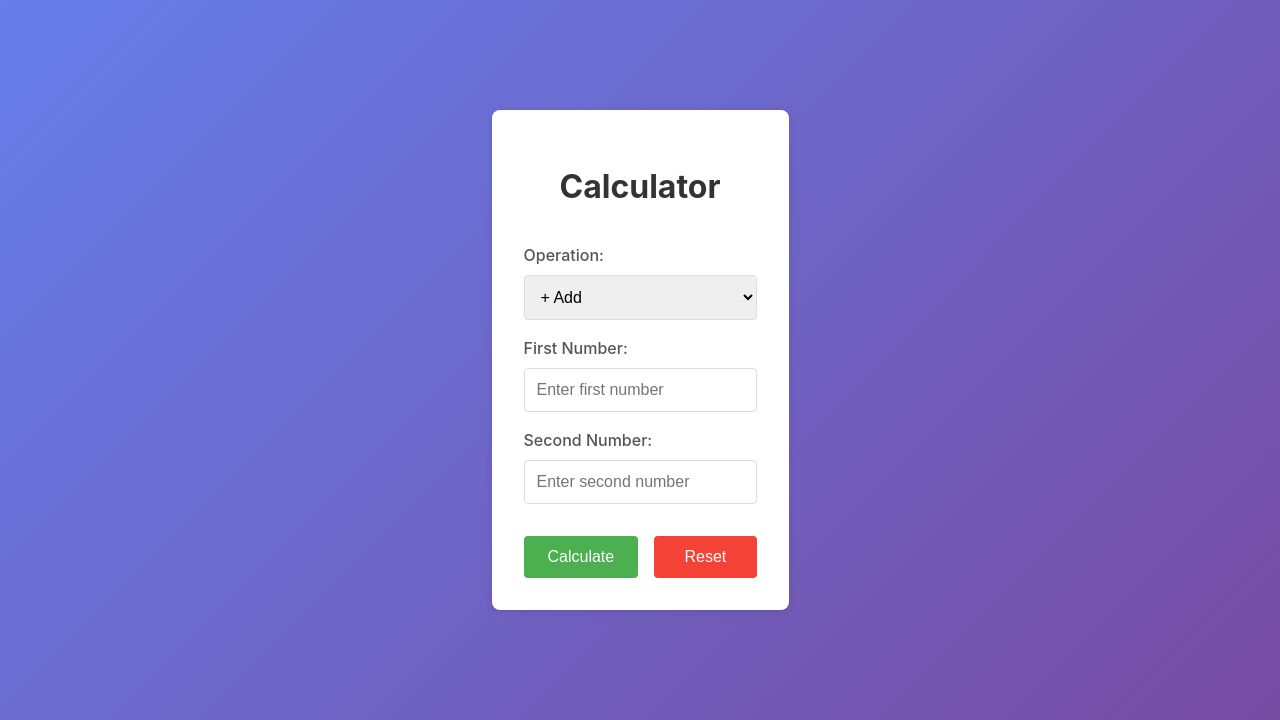
Test: Calculator Component › displays error for division by zero
Select "÷ Divide" in the dropdown labelled "Operation:". click: (640, 298)
box: x1=524 y1=275 x2=756 y2=320
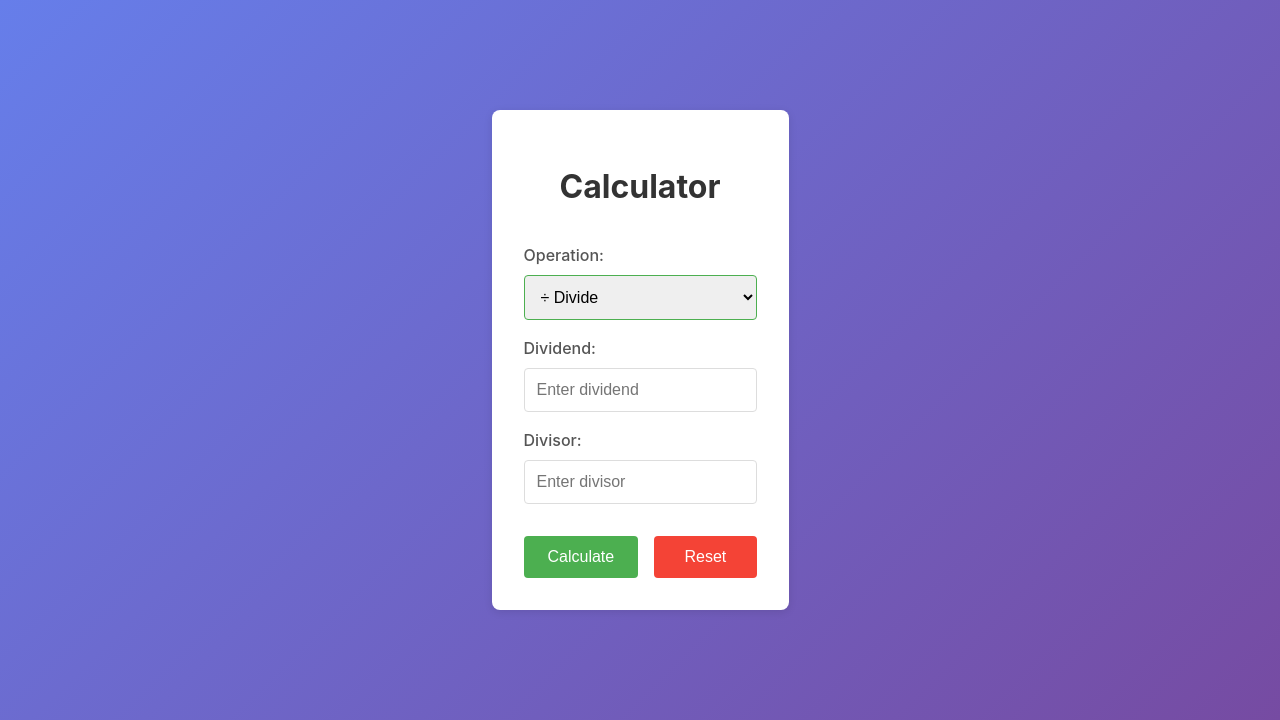
Type "10" into the field labelled "Dividend:". click: (640, 390)
box: x1=524 y1=368 x2=756 y2=412
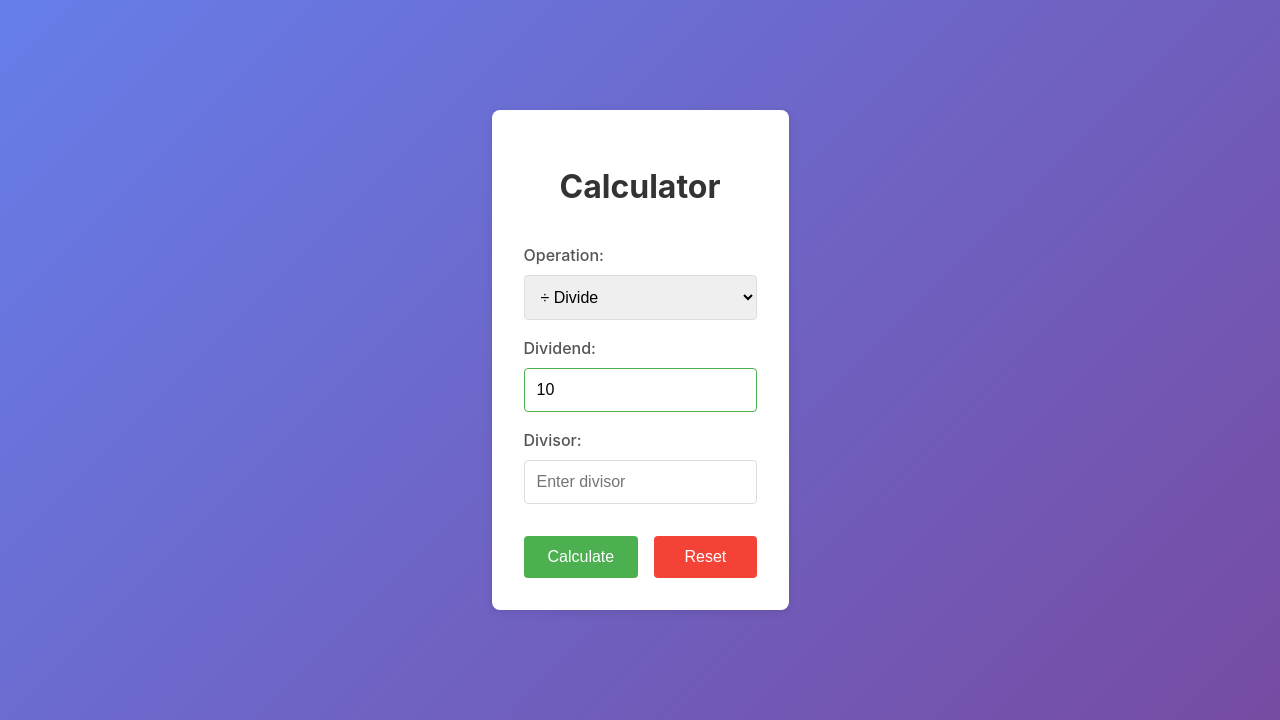
Type "0" into the field labelled "Divisor:". click: (640, 482)
box: x1=524 y1=460 x2=756 y2=504
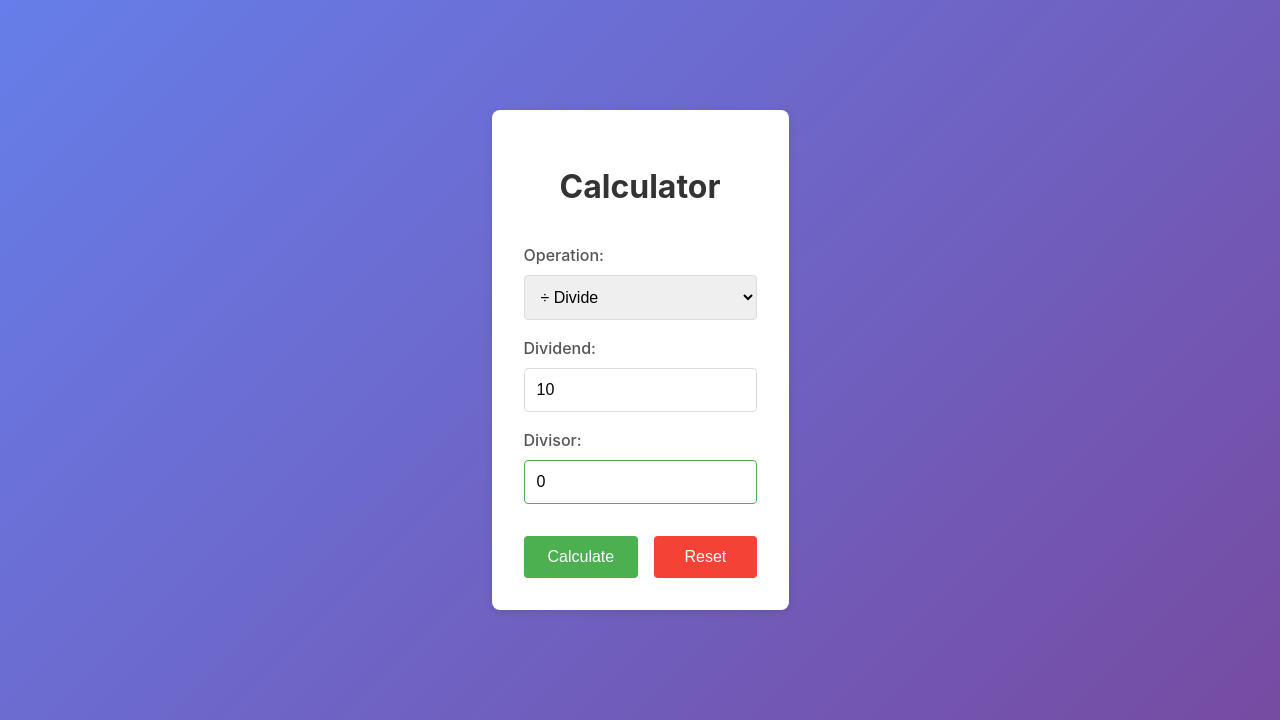
Click the button "Calculate". click: (581, 557)
box: x1=524 y1=536 x2=638 y2=578
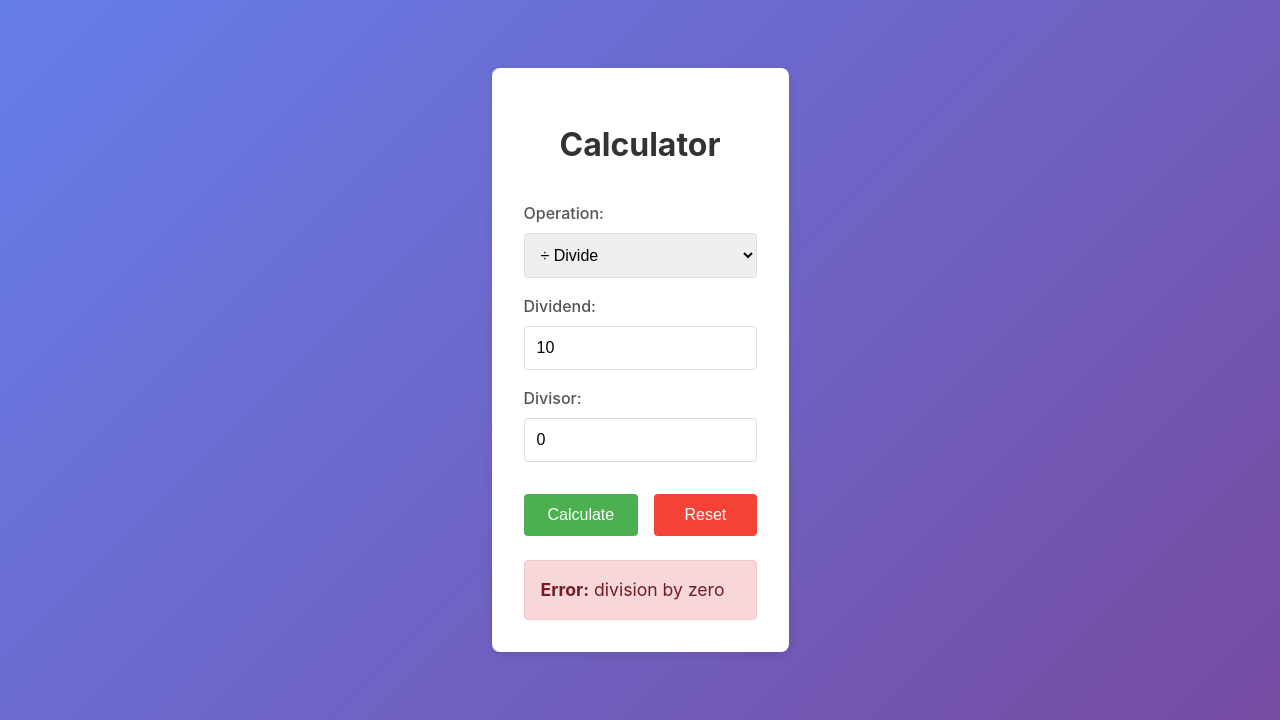
Expected: the element with test id "error" shows "division by zero", x1=594 y1=579 x2=724 y2=600
